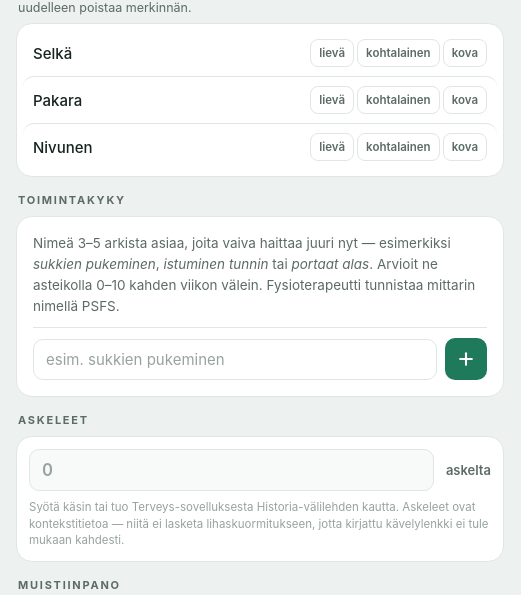
PSFS card › adds an activity and exposes the whole 0–10 scale for it
This screenshot has width=521, height=595.
(page scrolled)
Type "Sukkien pukeminen" into the field with placeholder "esim. sukkien pukeminen" at (235, 359), box [33,339,437,380]
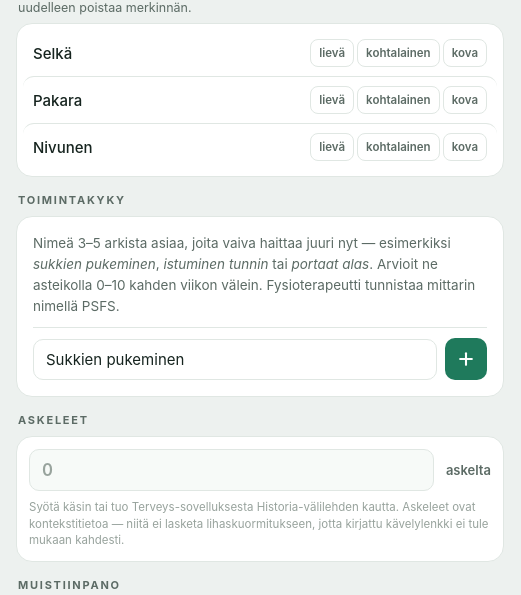
Click the button named "Lisää toiminto" at (466, 359), box [445,338,487,380]
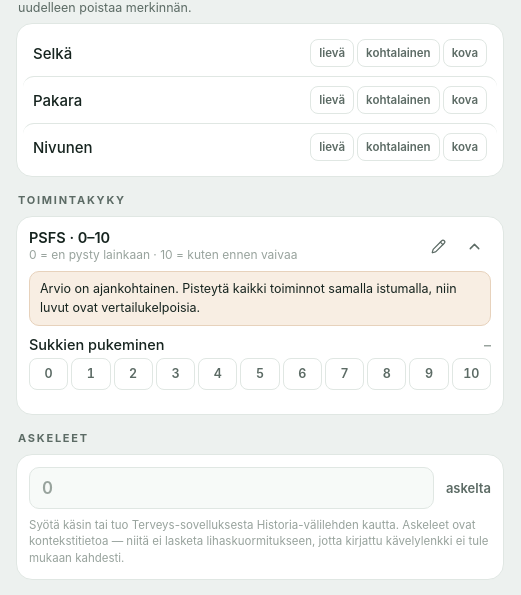
Expected: the text "Sukkien pukeminen" is shown, [29,336,164,353]
Expected: the button named "Sukkien pukeminen: 0" is shown, [29,358,68,390]
Expected: the button named "Sukkien pukeminen: 10" is shown, [452,358,491,390]
Click the button named "Sukkien pukeminen: 7" at (345, 374), box [325,358,364,390]
(page scrolled)
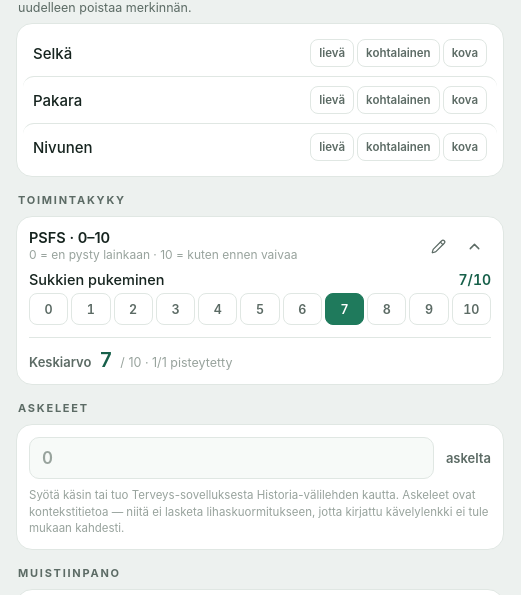
Expected: the text "Keskiarvo" is shown, [29,354,91,370]
Expected: the text "7/10" is shown, [458,271,491,288]
